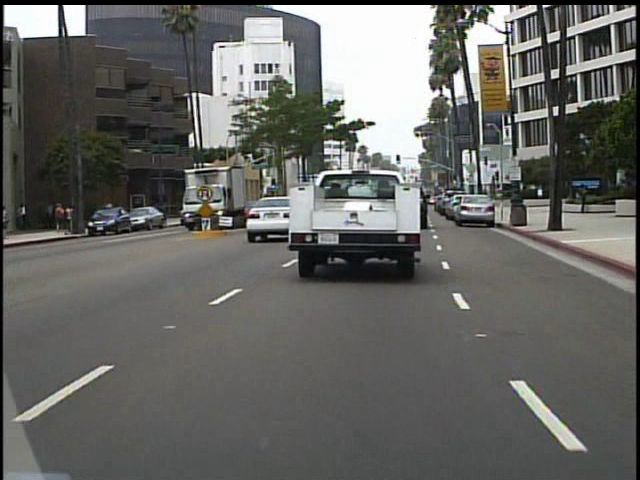person: (574, 179, 590, 215), (3, 202, 14, 242)
